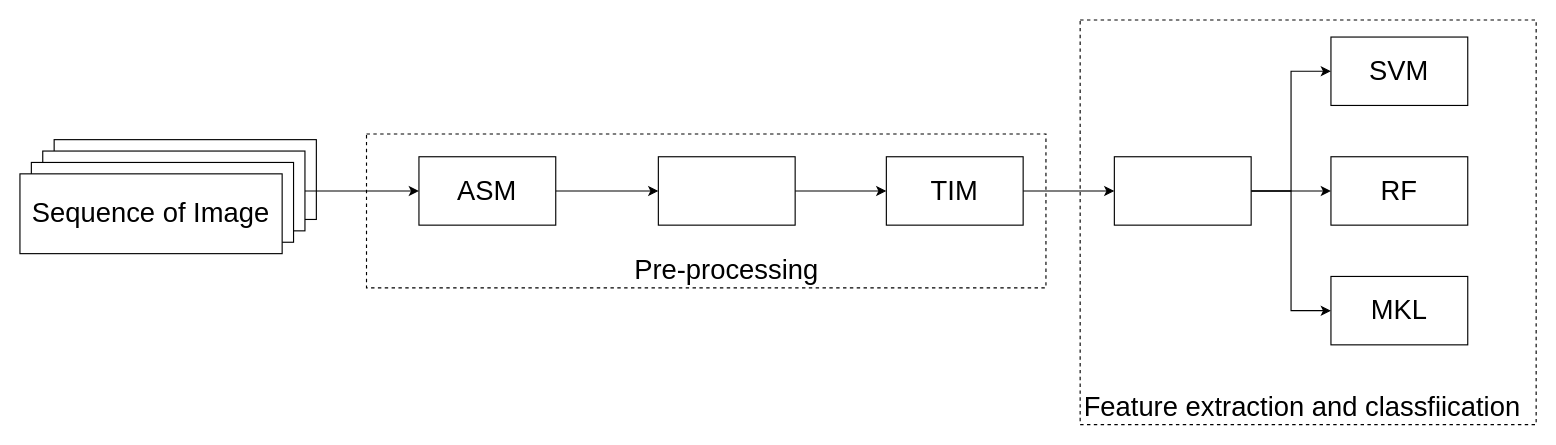
This 1556x445 diagram has some shape labels left out. Here are the shapes that lost their labels. From the top down, the box of each, then its label:
(657, 156, 795, 225): LWM
(1113, 156, 1251, 225): LBP-TOP
